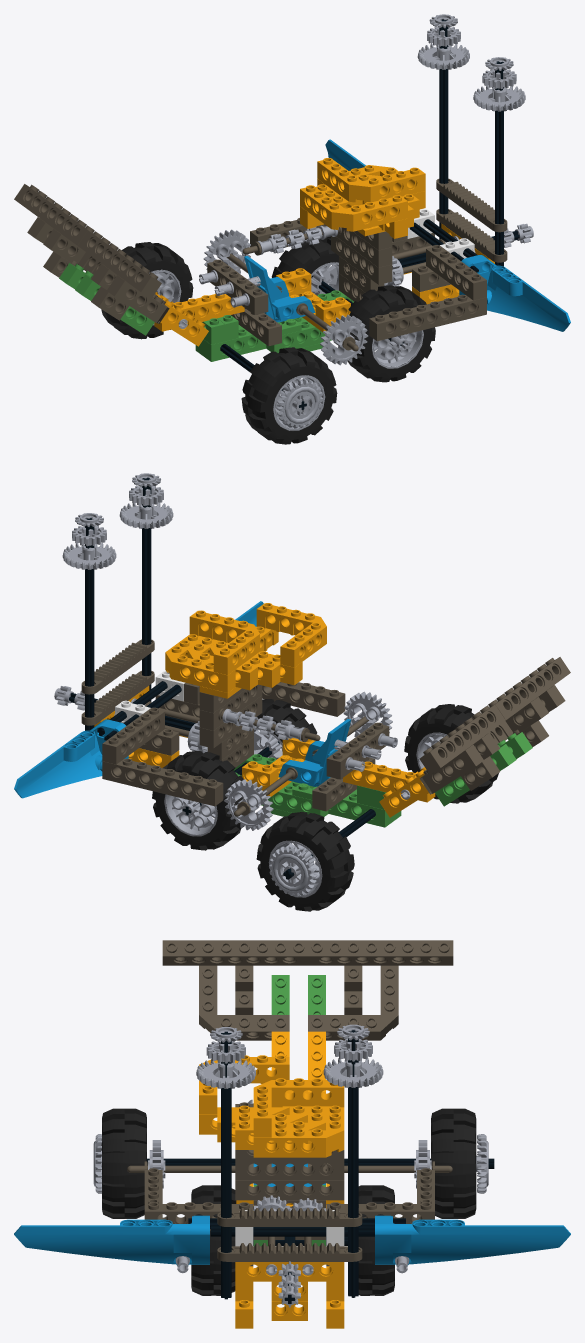
Rendered from treningsbil.dae.
3 views of the same model, one above another, from view 1: azimuth 30°, elevation 25°; view 2: azimuth 150°, elevation 25°; view 3: azimuth 270°, elevation 25° (orthographic). The views are drawn at different scales.
Visible parts, largest first — view 1: Inner-Node-treningsbil_dot_io-20, Inner-Node-treningsbil_dot_io-94, Inner-Node-treningsbil_dot_io-84, Inner-Node-treningsbil_dot_io-33, Inner-Node-treningsbil_dot_io-19, Inner-Node-treningsbil_dot_io-3, Inner-Node-treningsbil_dot_io-0, Inner-Node-treningsbil_dot_io-95, Inner-Node-treningsbil_dot_io-30, Inner-Node-treningsbil_dot_io-31, Inner-Node-treningsbil_dot_io-28, Inner-Node-treningsbil_dot_io-5 (+33 smaller); view 2: Inner-Node-treningsbil_dot_io-19, Inner-Node-treningsbil_dot_io-95, Inner-Node-treningsbil_dot_io-85, Inner-Node-treningsbil_dot_io-32, Inner-Node-treningsbil_dot_io-3, Inner-Node-treningsbil_dot_io-0, Inner-Node-treningsbil_dot_io-20, Inner-Node-treningsbil_dot_io-31, Inner-Node-treningsbil_dot_io-2, Inner-Node-treningsbil_dot_io-30, Inner-Node-treningsbil_dot_io-33, Inner-Node-treningsbil_dot_io-29 (+33 smaller); view 3: Inner-Node-treningsbil_dot_io-85, Inner-Node-treningsbil_dot_io-84, Inner-Node-treningsbil_dot_io-20, Inner-Node-treningsbil_dot_io-19, Inner-Node-treningsbil_dot_io-30, Inner-Node-treningsbil_dot_io-31, Inner-Node-treningsbil_dot_io-0, Inner-Node-treningsbil_dot_io-2, Inner-Node-treningsbil_dot_io-64, Inner-Node-treningsbil_dot_io-65, Inner-Node-treningsbil_dot_io-101, Inner-Node-treningsbil_dot_io-104 (+36 smaller).
Part boxes in pixels (bbox=[...]): Inner-Node-treningsbil_dot_io-20: bbox=[241, 347, 337, 444]; Inner-Node-treningsbil_dot_io-94: bbox=[347, 285, 435, 382]; Inner-Node-treningsbil_dot_io-84: bbox=[459, 255, 570, 331]; Inner-Node-treningsbil_dot_io-33: bbox=[369, 294, 486, 341]; Inner-Node-treningsbil_dot_io-19: bbox=[101, 242, 193, 339]; Inner-Node-treningsbil_dot_io-3: bbox=[300, 185, 407, 231]; Inner-Node-treningsbil_dot_io-0: bbox=[317, 158, 425, 203]; Inner-Node-treningsbil_dot_io-95: bbox=[271, 236, 338, 295]; Inner-Node-treningsbil_dot_io-30: bbox=[78, 230, 161, 298]; Inner-Node-treningsbil_dot_io-31: bbox=[14, 184, 94, 245]; Inner-Node-treningsbil_dot_io-28: bbox=[426, 245, 486, 300]; Inner-Node-treningsbil_dot_io-5: bbox=[244, 256, 315, 322]; Inner-Node-treningsbil_dot_io-19: bbox=[256, 812, 354, 911]; Inner-Node-treningsbil_dot_io-95: bbox=[152, 751, 243, 850]; Inner-Node-treningsbil_dot_io-85: bbox=[14, 719, 128, 798]; Inner-Node-treningsbil_dot_io-32: bbox=[102, 758, 223, 806]; Inner-Node-treningsbil_dot_io-3: bbox=[256, 603, 326, 667]; Inner-Node-treningsbil_dot_io-0: bbox=[189, 610, 259, 674]; Inner-Node-treningsbil_dot_io-20: bbox=[404, 704, 498, 803]; Inner-Node-treningsbil_dot_io-31: bbox=[419, 704, 505, 774]; Inner-Node-treningsbil_dot_io-2: bbox=[165, 634, 235, 692]; Inner-Node-treningsbil_dot_io-30: bbox=[488, 657, 570, 719]; Inner-Node-treningsbil_dot_io-33: bbox=[262, 682, 345, 716]; Inner-Node-treningsbil_dot_io-29: bbox=[102, 707, 164, 764]; Inner-Node-treningsbil_dot_io-85: bbox=[375, 1215, 570, 1265]; Inner-Node-treningsbil_dot_io-84: bbox=[14, 1215, 209, 1265]; Inner-Node-treningsbil_dot_io-20: bbox=[102, 1108, 146, 1218]; Inner-Node-treningsbil_dot_io-19: bbox=[431, 1108, 476, 1218]; Inner-Node-treningsbil_dot_io-30: bbox=[162, 940, 307, 965]; Inner-Node-treningsbil_dot_io-31: bbox=[308, 940, 453, 965]; Inner-Node-treningsbil_dot_io-0: bbox=[253, 1078, 344, 1137]; Inner-Node-treningsbil_dot_io-2: bbox=[253, 1105, 344, 1157]; Inner-Node-treningsbil_dot_io-64: bbox=[199, 965, 289, 1040]; Inner-Node-treningsbil_dot_io-65: bbox=[308, 965, 398, 1040]; Inner-Node-treningsbil_dot_io-101: bbox=[217, 1243, 362, 1261]; Inner-Node-treningsbil_dot_io-104: bbox=[217, 1208, 362, 1226].
Size of the model in its own units: 663 by 397 by 613.
